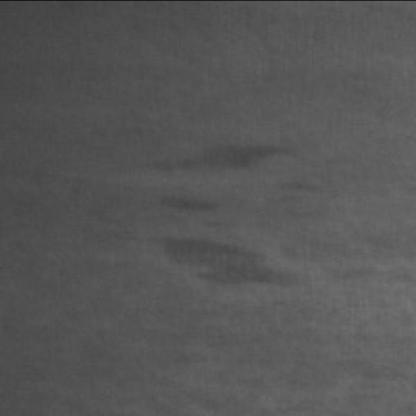inclusion: (146, 225, 298, 301), (133, 129, 300, 191), (150, 183, 231, 233)
